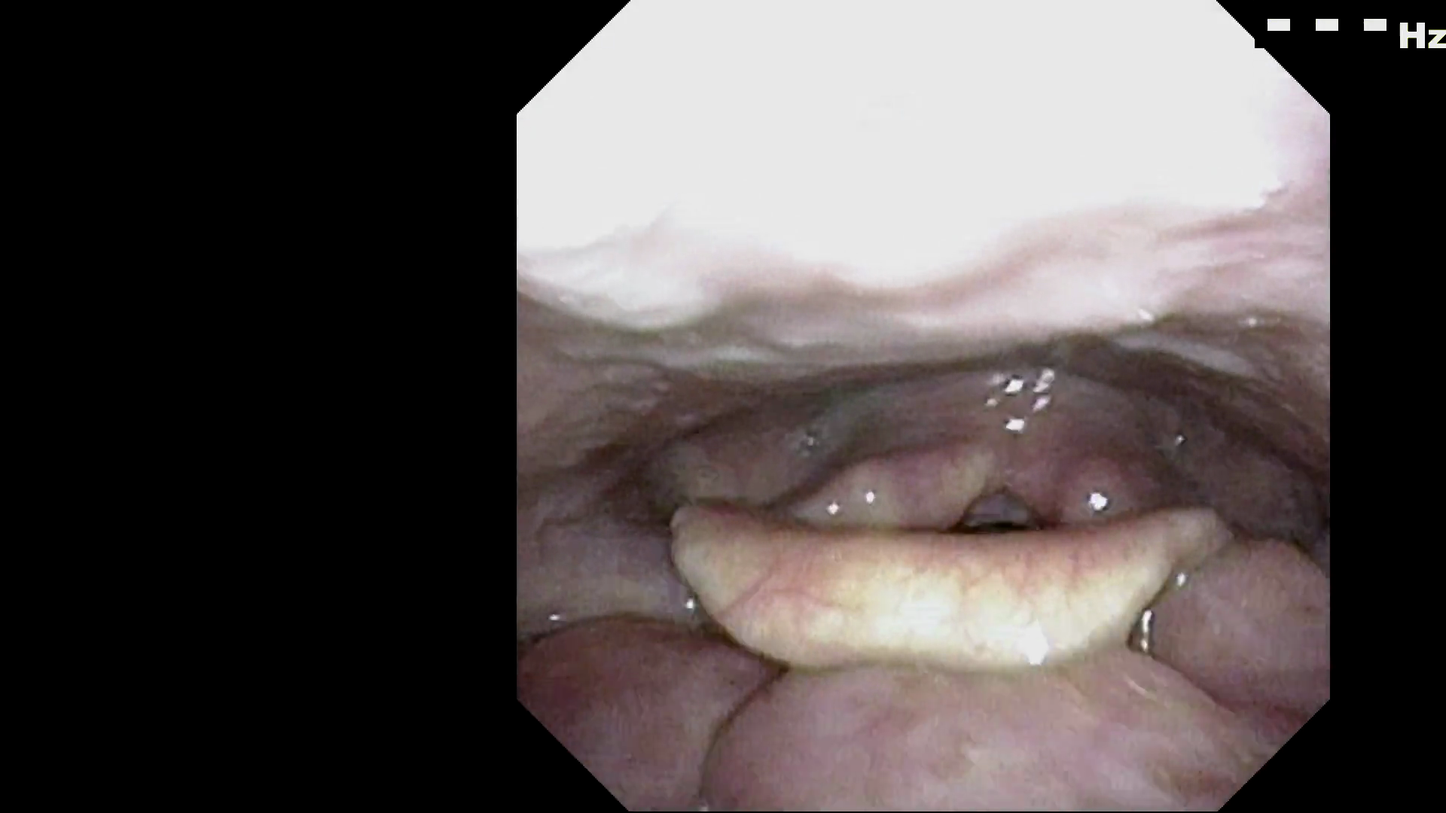epiglottis: (701, 497, 1243, 636)
